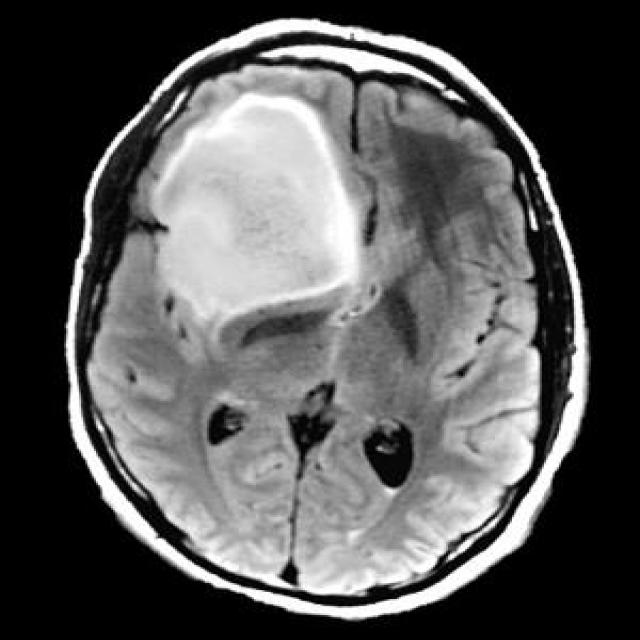Tumor-Cell: (140, 104, 384, 345)
